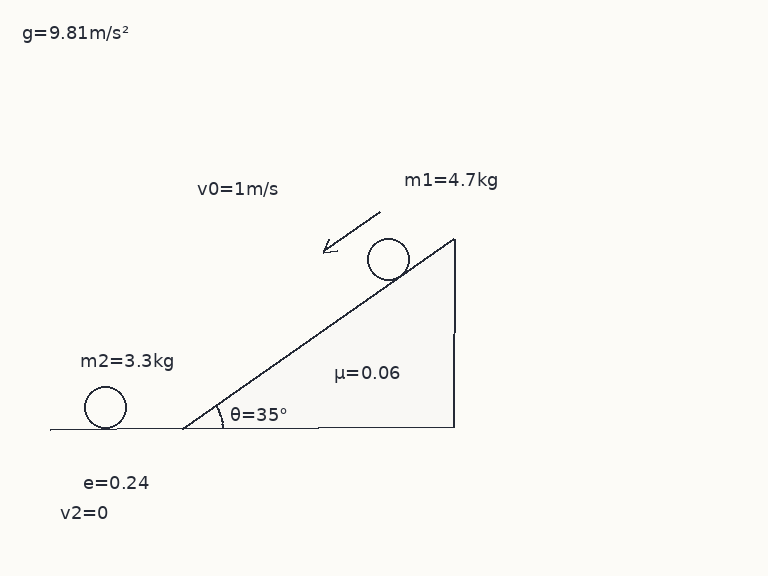ball: (365, 236, 411, 282), (82, 384, 128, 430)
ramp: (181, 237, 455, 430)
